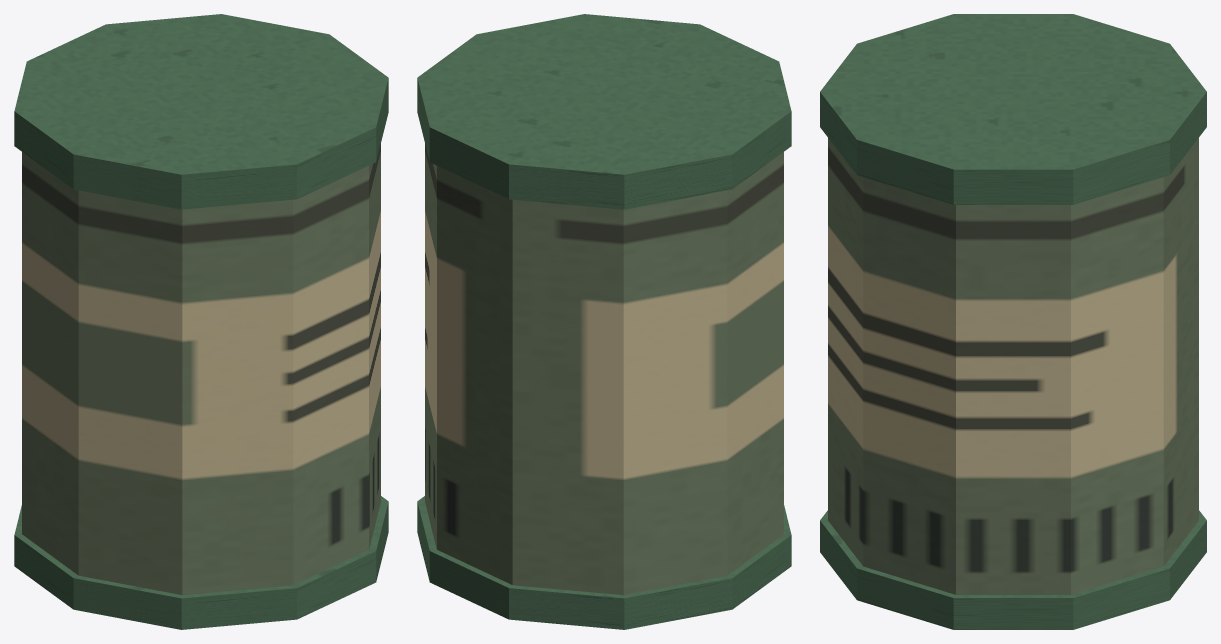
Rendered from FoodCan.fbx.
3 renders of one model, left to right at view 1: azimuth 30°, elevation 25°; view 2: azimuth 150°, elevation 25°; view 3: azimuth 270°, elevation 25°, orthographic.
Parts seen in each view (by area): view 1: FoodCan; view 2: FoodCan; view 3: FoodCan.
Part boxes in pixels (x1=…): FoodCan: x1=14, y1=14, x2=388, y2=629; FoodCan: x1=417, y1=14, x2=791, y2=629; FoodCan: x1=820, y1=14, x2=1206, y2=629.
Bounding box in the file's own units: 18.83 × 26 × 19.8.
